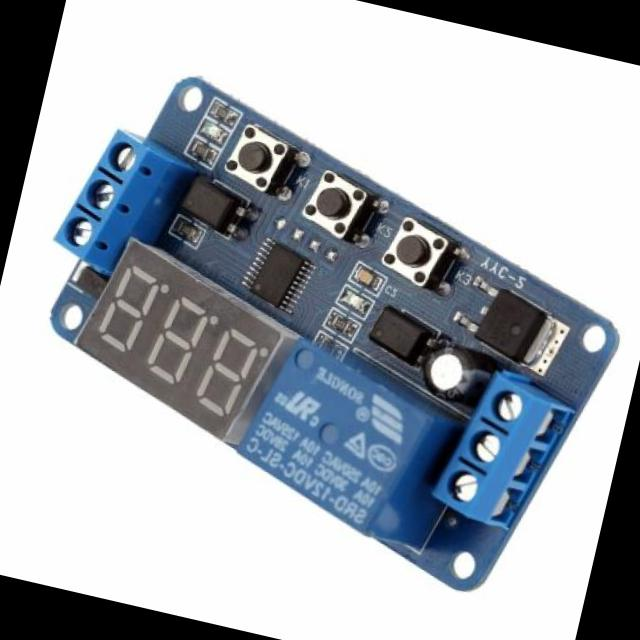IC: (459, 270, 565, 362), (243, 234, 311, 314), (367, 300, 440, 366), (179, 175, 254, 238)
LED: (196, 117, 224, 149), (340, 283, 370, 312)
capacitor: (410, 337, 498, 409), (351, 264, 379, 290)
connector: (431, 362, 578, 548), (52, 113, 174, 274)
diode: (64, 261, 109, 301)
resistor: (183, 136, 214, 168), (205, 98, 238, 128), (170, 214, 200, 242), (324, 312, 354, 334)
